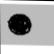correct: (7, 11, 35, 40)
